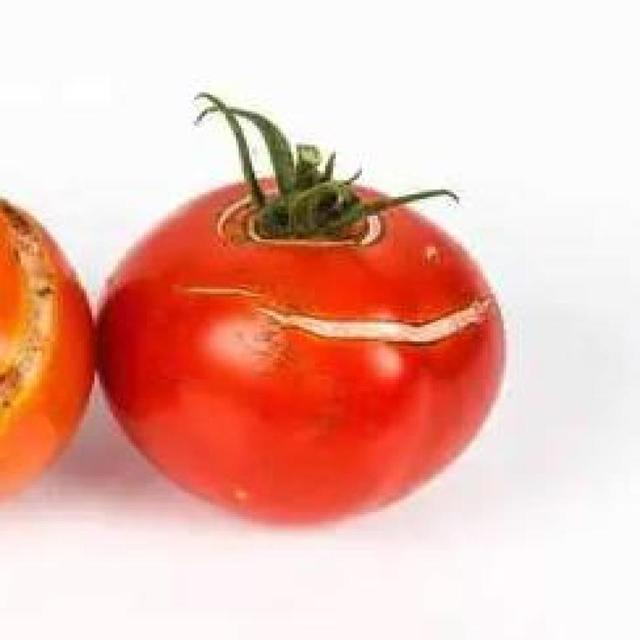Cracking Fruit: (22, 51, 219, 208)
